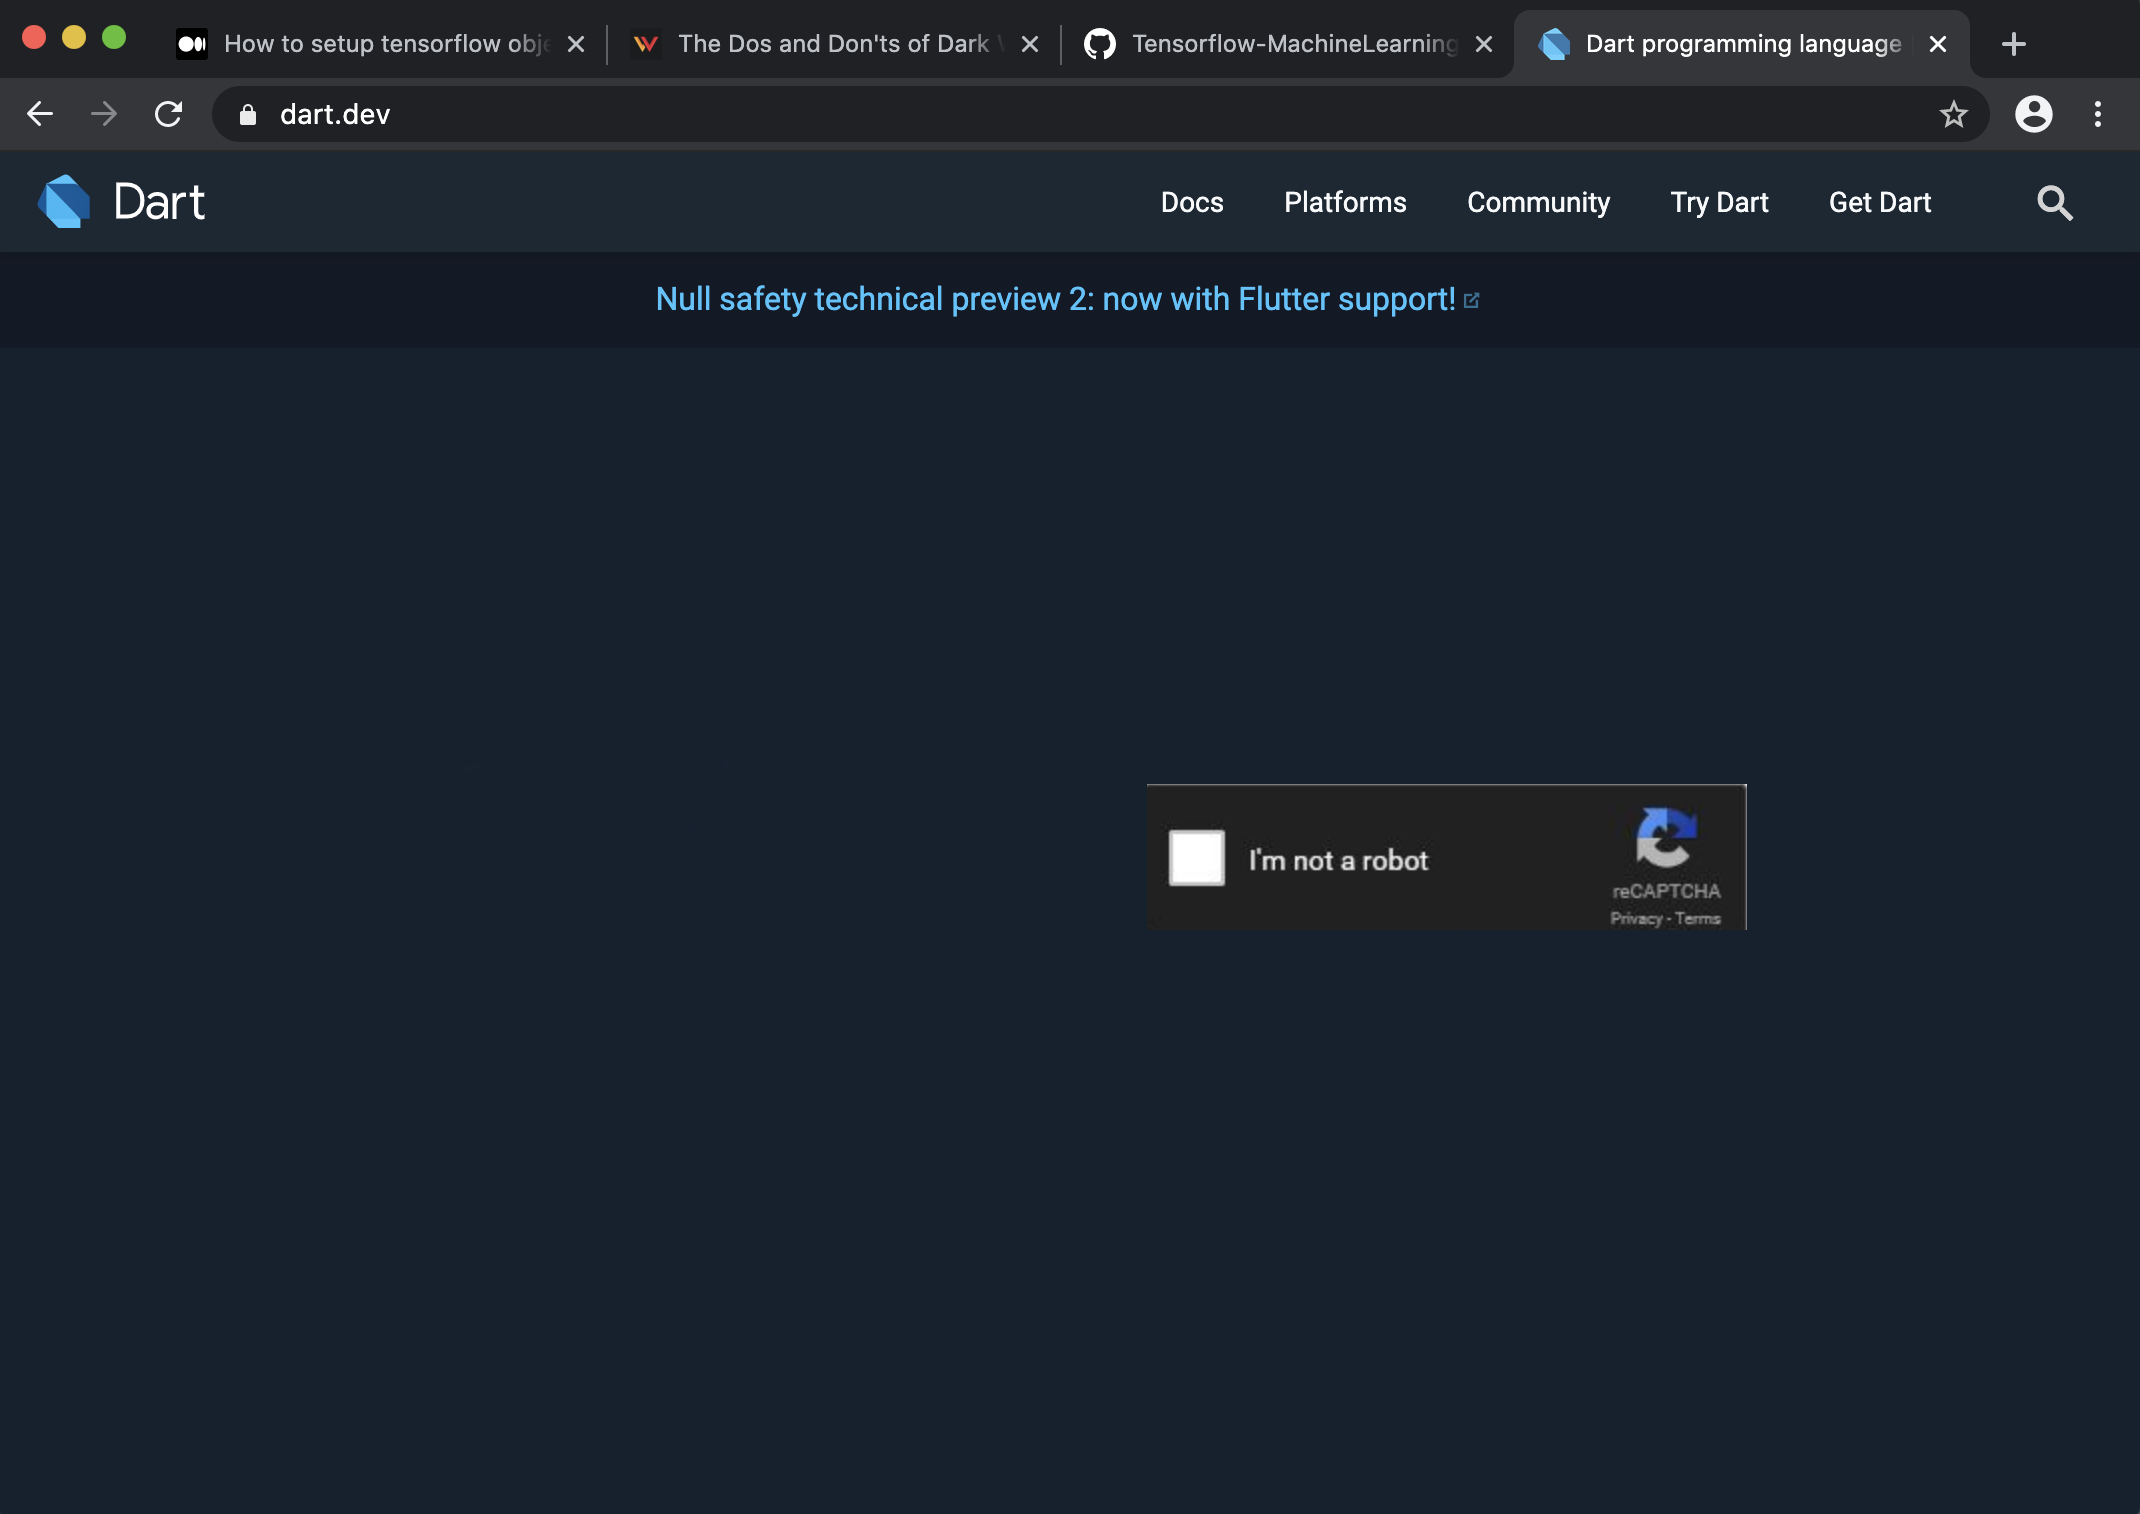captcha: (1132, 768, 1761, 955)
